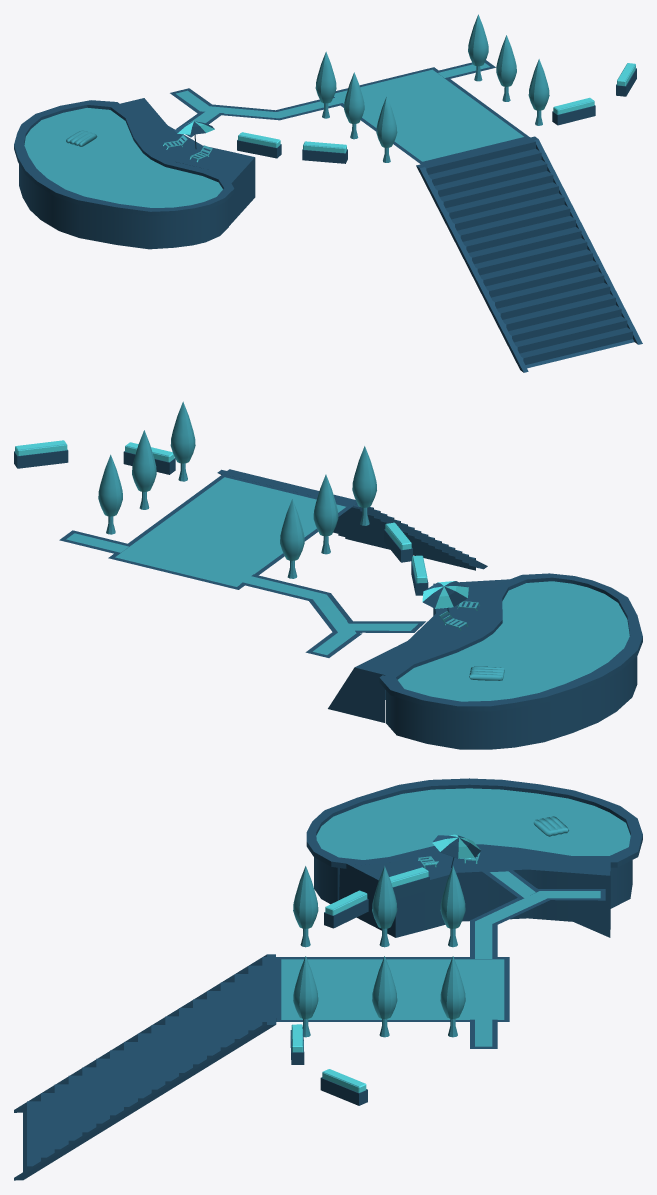
File: Green_Villa_LV5.FBX
The picture shows the model from 3 angles, top to bottom: view 1: azimuth 30°, elevation 25°; view 2: azimuth 150°, elevation 25°; view 3: azimuth 270°, elevation 25°; orthographic projection. The views are drawn at different scales.
Parts seen in each view (by area): view 1: Green_Villa; view 2: Green_Villa; view 3: Green_Villa.
Part boxes in pixels (x1,y1,x2,y2): Green_Villa: (14,14,642,372); Green_Villa: (14,401,642,749); Green_Villa: (14,778,642,1180).
Size of the model in its own units: 58.51 by 19.6 by 47.39.
